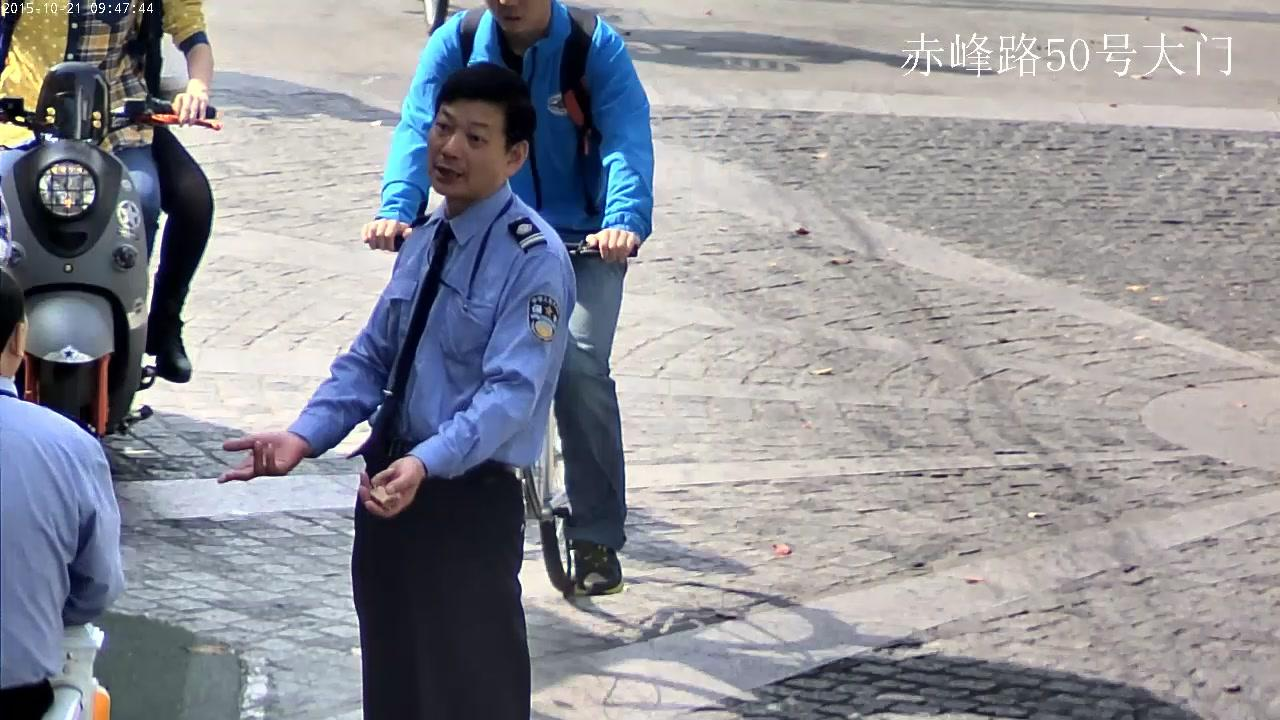person: (216, 60, 577, 720), (363, 0, 658, 597), (365, 0, 656, 595), (0, 0, 218, 447), (0, 267, 127, 720), (0, 0, 209, 267)
